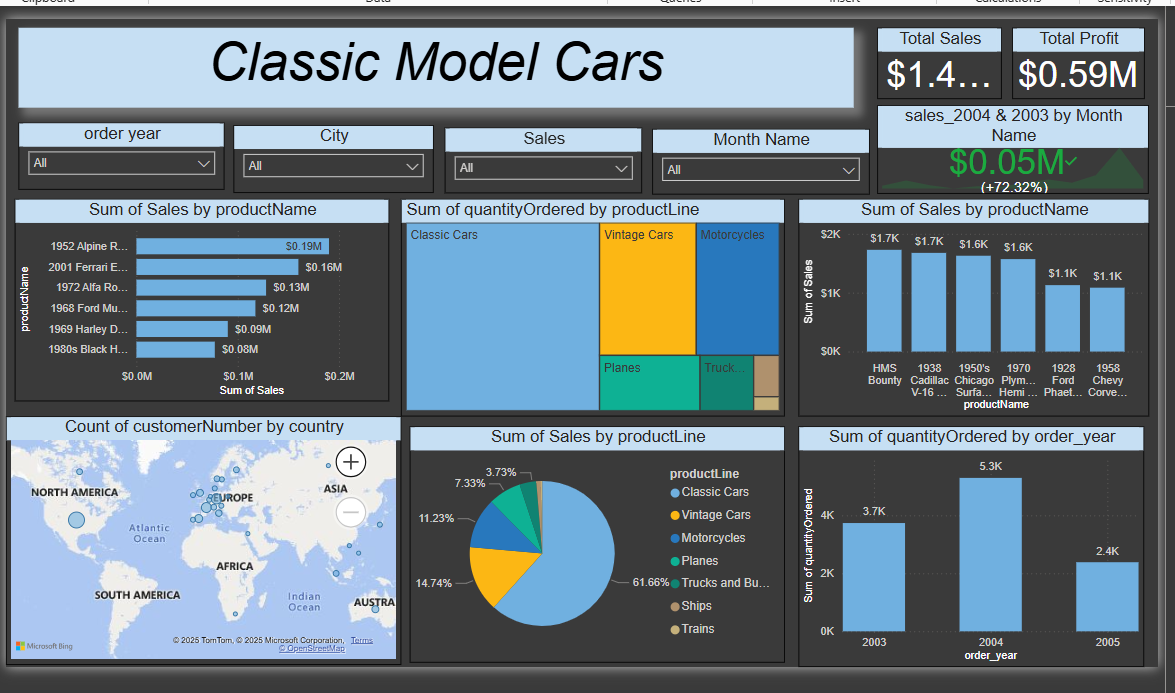

The dashboard page shown, as its layout file describes it:
{"tool":"powerbi","page":{"name":"Page 1","canvas":[1280,720],"ordinal":0},"visuals":[{"type":"card","title":"Total Profit","fields":{"Values":["order_details.Total_profit"]},"box":[1118.4,9.6,146.8,79.6],"z":0},{"type":"card","title":"Total Sales","fields":{"Values":["order_details.Total_sales"]},"box":[967.4,9.6,138.6,79.6],"z":1000},{"type":"barChart","fields":{"Category":["products.productName"],"Y":["Sum(order_details.Sales)"]},"box":[9.6,200.3,415.8,225],"z":2000},{"type":"pieChart","fields":{"Category":["products.productLine"],"Y":["Sum(order_details.Sales)"]},"box":[448.7,452.8,417.2,262.1],"z":3000},{"type":"slicer","title":"order year","fields":{"Values":["orders.order_year"]},"box":[13.7,115.3,229.2,74.1],"z":4000},{"type":"slicer","title":"Month Name","fields":{"Values":["orders.Month Name"]},"box":[717.7,122.1,241.5,72.7],"z":5000},{"type":"kpi","title":"sales_2004 & 2003 by Month Name","fields":{"Indicator":["orders.sales_2004"],"Goal":["orders.sales_2003"],"TrendLine":["orders.Month Name"]},"box":[967.4,96.1,301.9,98.8],"z":8000},{"type":"map","fields":{"Category":["customers.country"],"Size":["Count(customers.customerNumber)"]},"box":[0,441.9,439.1,275.8],"z":9000},{"type":"treemap","fields":{"Values":["Sum(order_details.quantityOrdered)"],"Group":["products.productLine"]},"box":[439.1,200.3,426.8,241.5],"z":10000},{"type":"columnChart","fields":{"Category":["orders.order_year"],"Y":["Sum(order_details.quantityOrdered)"]},"box":[881,452.8,384.2,267.6],"z":11000},{"type":"slicer","title":"City","fields":{"Values":["offices.city"]},"box":[252.5,118,222.3,75.5],"z":13000},{"type":"slicer","title":"Sales","fields":{"Values":["order_details.Sales"]},"box":[487.1,120.8,219.6,72.7],"z":15000},{"type":"columnChart","fields":{"Category":["products.productName"],"Y":["Sum(order_details.Sales)"]},"box":[881,200.3,389.7,241.5],"z":16000},{"type":"textbox","box":[13.7,9.6,927.6,89.2],"z":16001}]}

Visuals, with their boxes on the page's 1280x720 design canvas (x1, y1, x2, y2). These are canvas units, not pixel positions in the 1175x693 screenshot, which may show the page scaled, cropped or inside an application window:
"Total Profit" card: l=1118, t=10, r=1265, b=89
"Total Sales" card: l=967, t=10, r=1106, b=89
barChart - products.productName x Sum(order_details.Sales): l=10, t=200, r=425, b=425
pieChart - products.productLine x Sum(order_details.Sales): l=449, t=453, r=866, b=715
"order year" slicer: l=14, t=115, r=243, b=189
"Month Name" slicer: l=718, t=122, r=959, b=195
"sales_2004 & 2003 by Month Name" kpi: l=967, t=96, r=1269, b=195
map - customers.country x Count(customers.customerNumber): l=0, t=442, r=439, b=718
treemap - Sum(order_details.quantityOrdered) x products.productLine: l=439, t=200, r=866, b=442
columnChart - orders.order_year x Sum(order_details.quantityOrdered): l=881, t=453, r=1265, b=720
"City" slicer: l=252, t=118, r=475, b=194
"Sales" slicer: l=487, t=121, r=707, b=194
columnChart - products.productName x Sum(order_details.Sales): l=881, t=200, r=1271, b=442
textbox: l=14, t=10, r=941, b=99
